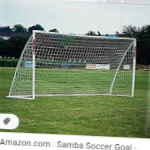goals: (8, 29, 138, 101)
